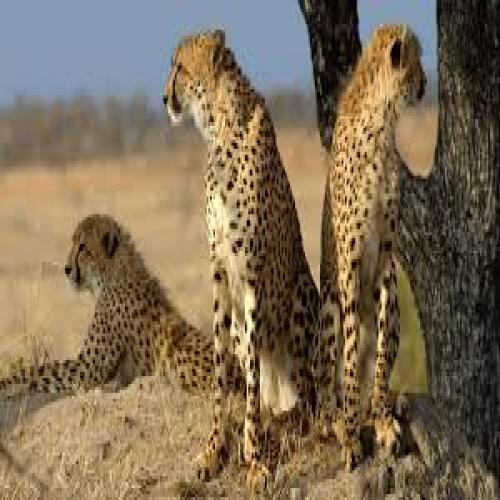cheetah-endangered: (155, 29, 316, 481), (314, 23, 435, 445), (7, 208, 212, 408)
